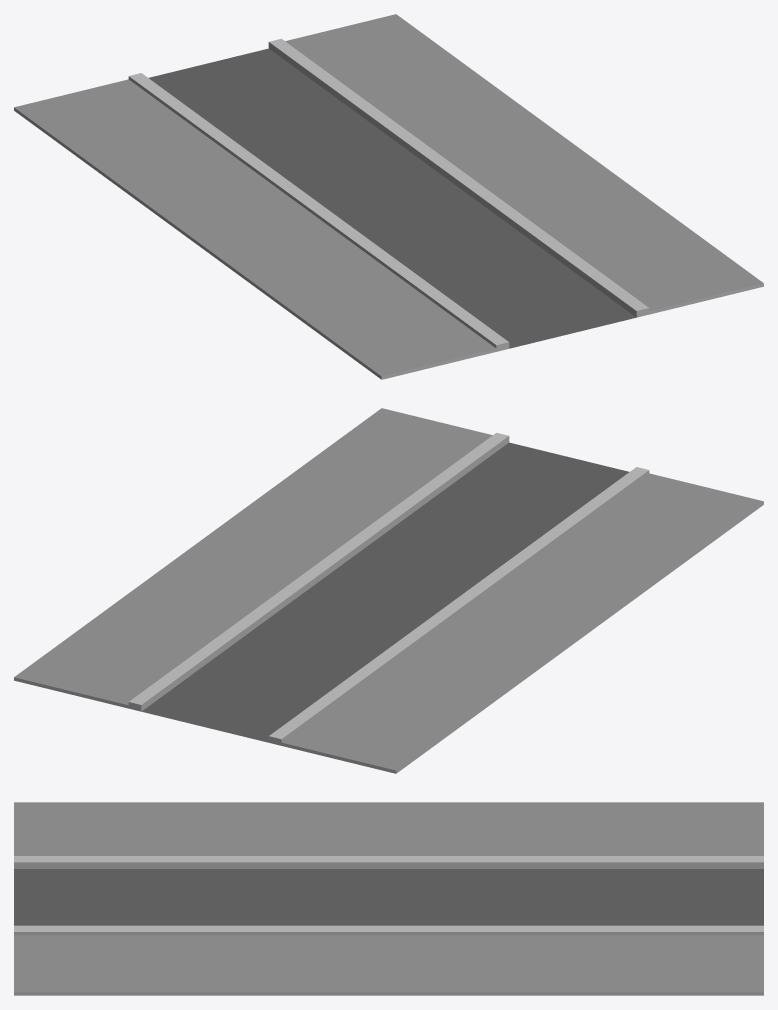
Rendered from street_1x20.fbx.
3 views of the same model, one above another, from view 1: azimuth 30°, elevation 25°; view 2: azimuth 150°, elevation 25°; view 3: azimuth 270°, elevation 25° (orthographic).
Parts seen in each view (by area): view 1: street_1x20; view 2: street_1x20; view 3: street_1x20.
Boxes of the visible parts, bbox=[...] form: street_1x20: bbox=[14, 14, 763, 379]; street_1x20: bbox=[14, 408, 763, 773]; street_1x20: bbox=[14, 802, 763, 995].
Size of the model in its own units: 12 by 0.2 by 20.
